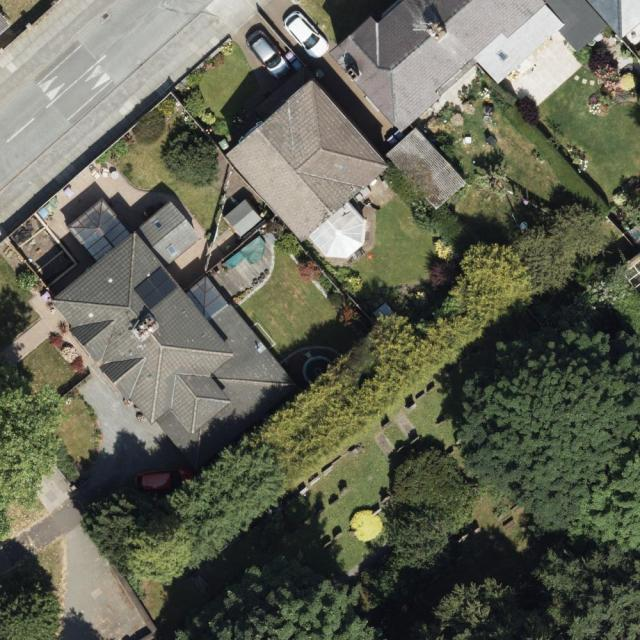roof: (50, 199, 298, 473), (329, 0, 639, 133), (225, 80, 387, 259), (387, 128, 467, 210)
skylight: (67, 200, 130, 260), (185, 274, 230, 322), (164, 244, 178, 258), (496, 50, 510, 61), (153, 220, 163, 232)
solar: (133, 266, 179, 309)
